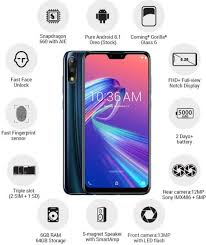asus: (79, 47, 153, 197)
